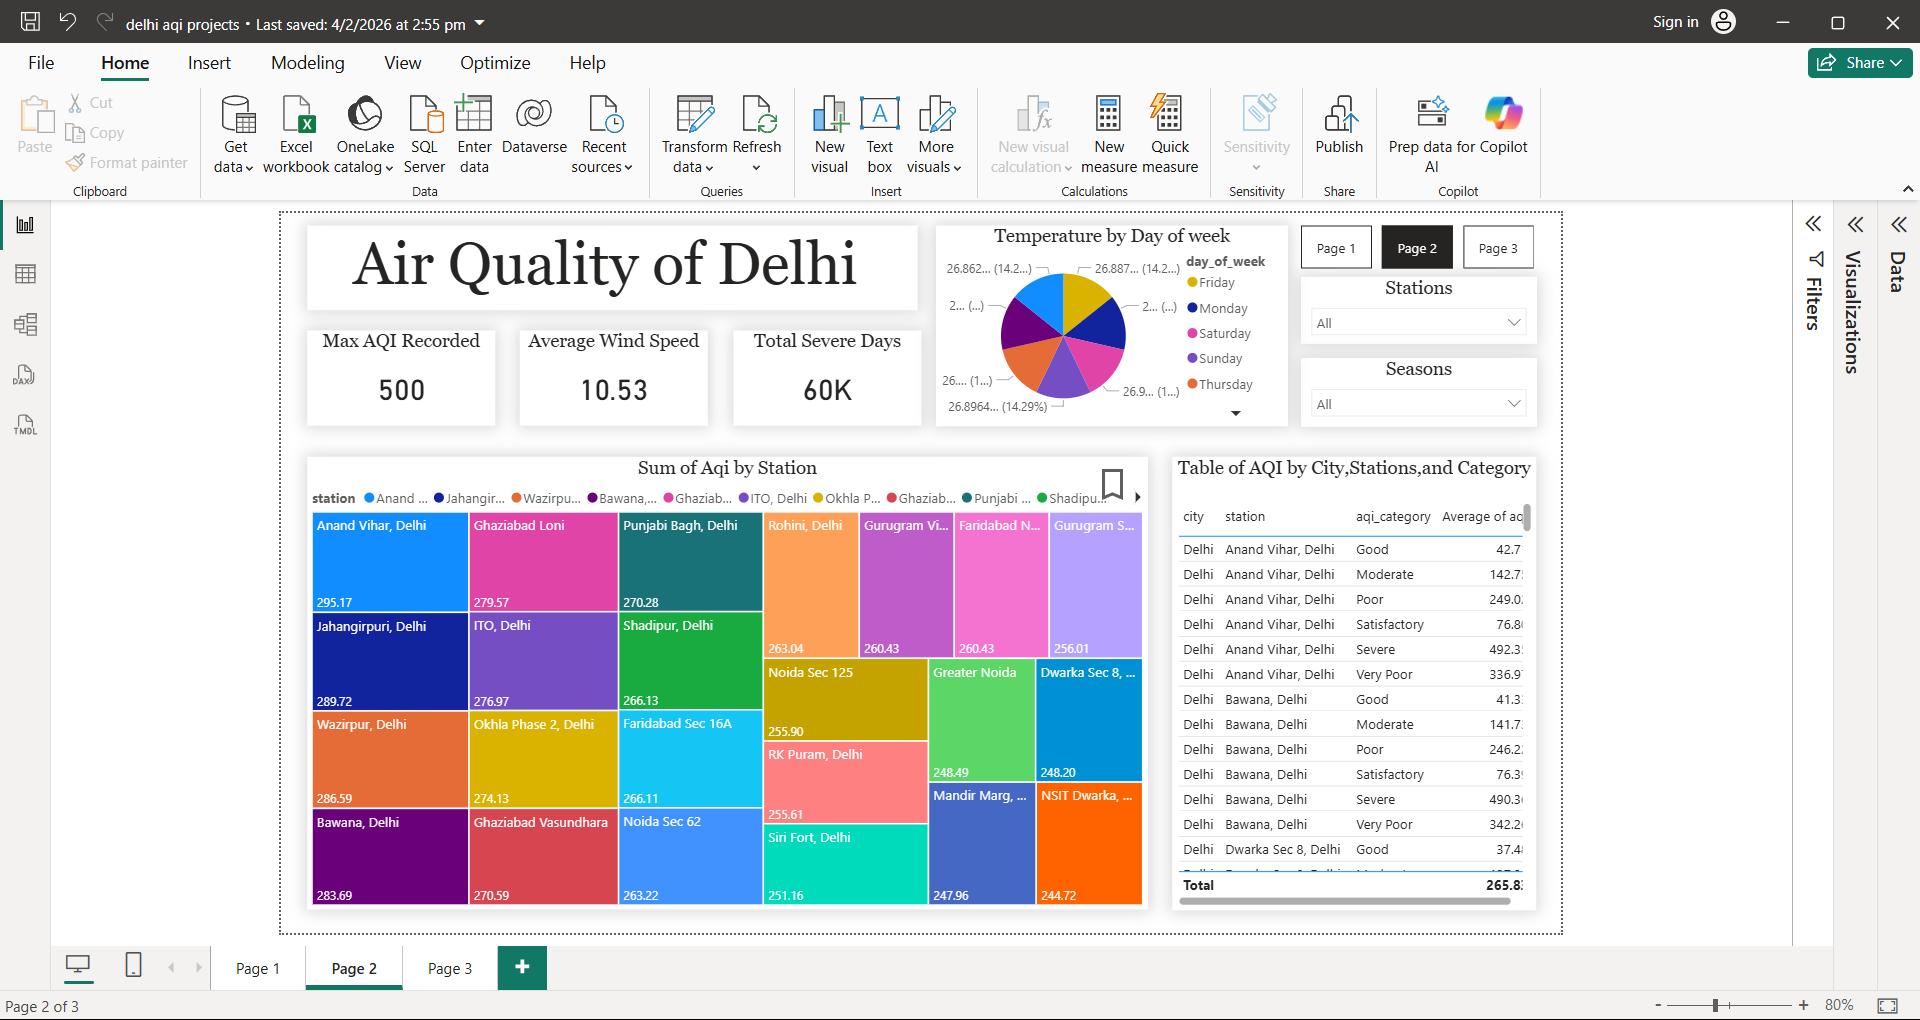

The page's visual inventory and layout, read from the dashboard file:
{"tool":"powerbi","page":{"name":"Page 2","canvas":[1280,720],"ordinal":1},"visuals":[{"type":"textbox","box":[26.9,11.9,610.4,85.1],"z":0},{"type":"card","title":" Max AQI Recorded","fields":{"Values":["delhi_ncr_aqi_dataset.Max AQI"]},"box":[26.9,117.9,188.1,95.5],"z":1000},{"type":"card","title":"Total Severe Days","fields":{"Values":["delhi_ncr_aqi_dataset.Severe Days"]},"box":[452.2,117.9,188.1,95.5],"z":2000},{"type":"card","title":"Average Wind Speed ","fields":{"Values":["delhi_ncr_aqi_dataset.Average Wind speed"]},"box":[238.8,117.9,188.1,95.5],"z":3000},{"type":"slicer","title":" Stations","fields":{"Values":["delhi_ncr_aqi_dataset.station"]},"box":[1019.4,64.2,235.8,67.2],"z":4000},{"type":"slicer","title":"Seasons ","fields":{"Values":["delhi_ncr_aqi_dataset.season"]},"box":[1019.4,144.8,235.8,68.7],"z":5000},{"type":"pageNavigator","box":[1019.4,11.9,235.8,43.3],"z":6000},{"type":"pieChart","title":"Temperature by Day of week","fields":{"Category":["delhi_ncr_aqi_dataset.day_of_week"],"Y":["Avg(delhi_ncr_aqi_dataset.temperature)"]},"box":[655.4,12.2,352.2,200.5],"z":7000},{"type":"treemap","title":"Sum of Aqi by Station","fields":{"Values":["Avg(delhi_ncr_aqi_dataset.aqi)"],"Group":["delhi_ncr_aqi_dataset.station"]},"box":[26.6,243.8,840.6,453.1],"z":8000},{"type":"tableEx","title":"Table of AQI by City,Stations,and Category ","fields":{"Values":["delhi_ncr_aqi_dataset.city","delhi_ncr_aqi_dataset.station","delhi_ncr_aqi_dataset.aqi_category","Avg(delhi_ncr_aqi_dataset.aqi)"]},"box":[891,243.3,364.2,453.7],"z":9000},{"type":"actionButton","box":[810.9,243.8,40.6,54.7],"z":11000}]}

Visuals, with their boxes on the page's 1280x720 design canvas (x1, y1, x2, y2). These are canvas units, not pixel positions in the 1920x1020 screenshot, which may show the page scaled, cropped or inside an application window:
textbox: rect(27, 12, 637, 97)
" Max AQI Recorded" card: rect(27, 118, 215, 213)
"Total Severe Days" card: rect(452, 118, 640, 213)
"Average Wind Speed " card: rect(239, 118, 427, 213)
" Stations" slicer: rect(1019, 64, 1255, 131)
"Seasons " slicer: rect(1019, 145, 1255, 214)
pageNavigator: rect(1019, 12, 1255, 55)
"Temperature by Day of week" pieChart: rect(655, 12, 1008, 213)
"Sum of Aqi by Station" treemap: rect(27, 244, 867, 697)
"Table of AQI by City,Stations,and Category " tableEx: rect(891, 243, 1255, 697)
actionButton: rect(811, 244, 852, 298)
